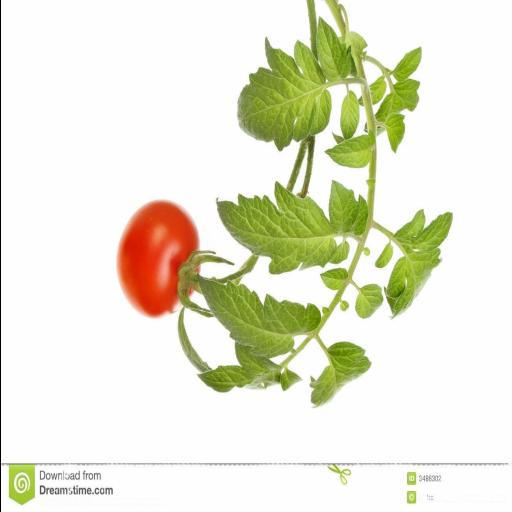Healthy: (215, 180, 335, 274), (236, 38, 330, 152), (195, 274, 321, 358), (384, 206, 453, 320), (307, 342, 371, 410), (316, 16, 348, 80)
